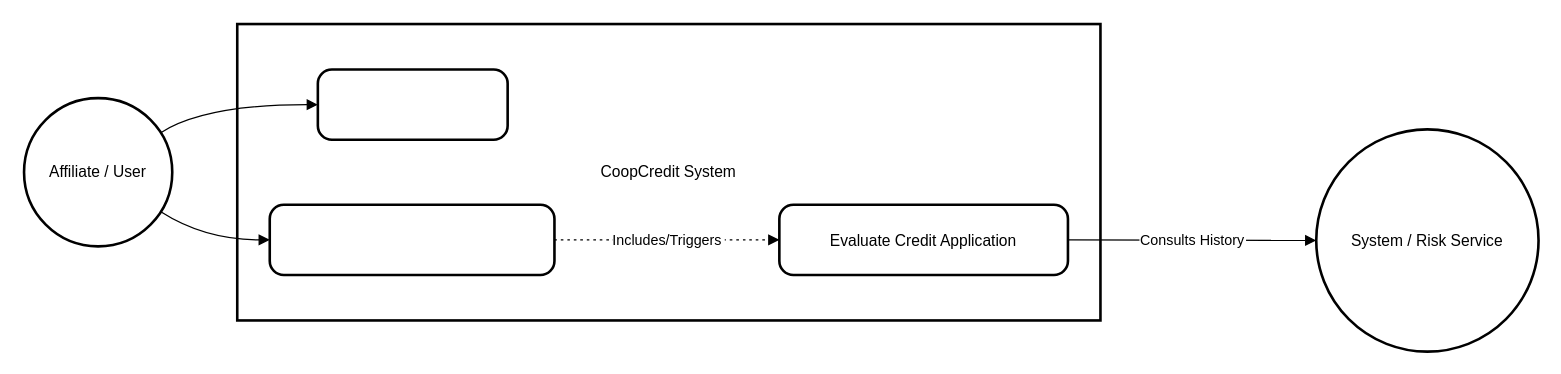
The diagram is 1561 pixels wide and 374 high, and some of its shapes have lost their labels. The centre of each missing label's shape, as x and y in pixels:
"Register Affiliate" belongs at point 412,104.
"Register Credit Application" belongs at point 411,239.
